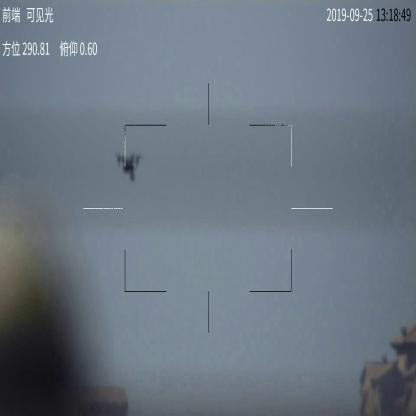uav: (115, 152, 142, 183)
